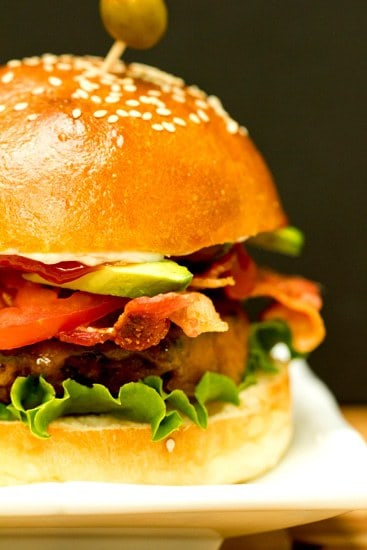hamburger_buns: (1, 50, 315, 457)
